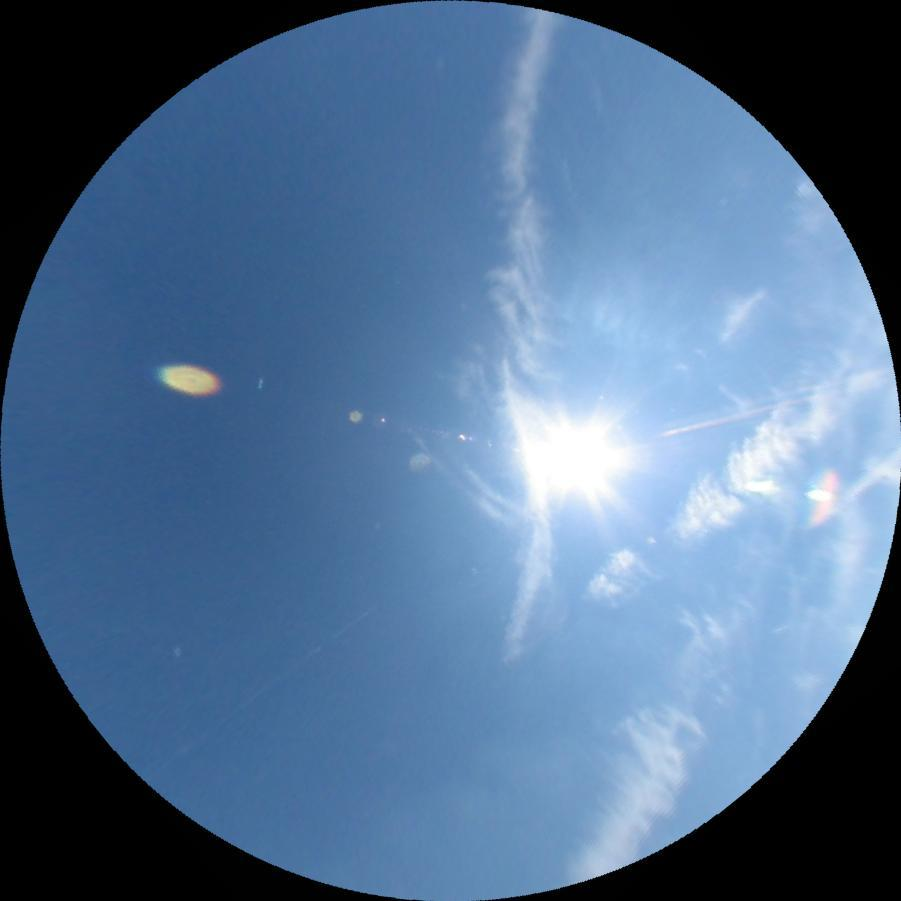contrail veryold: (576, 370, 853, 625), (472, 7, 569, 665)
parasite: (653, 390, 818, 442)
sun: (531, 425, 614, 493)
